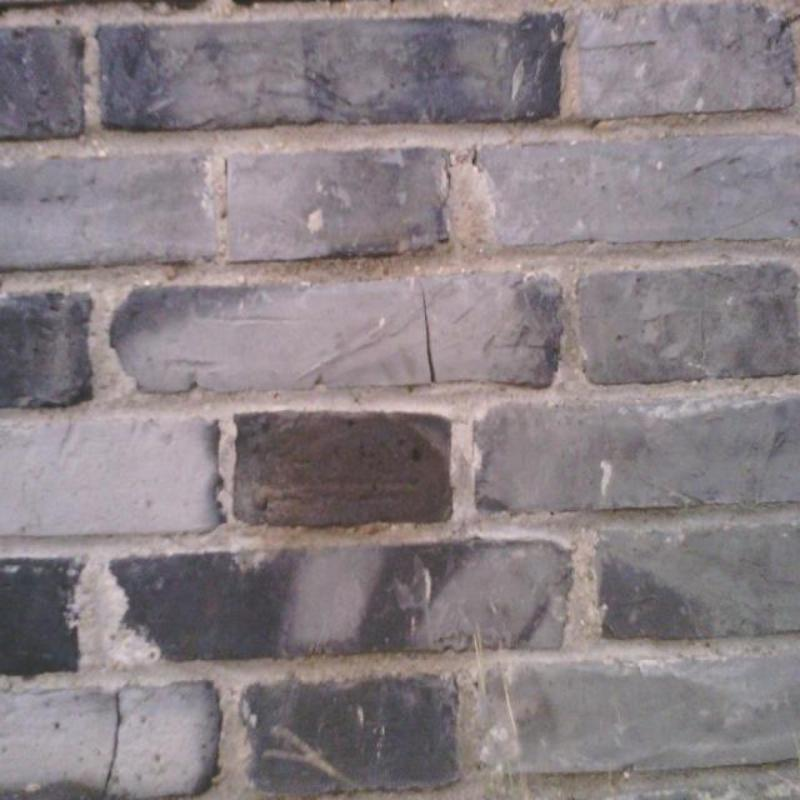pothole: (103, 694, 122, 797), (423, 293, 436, 383)
